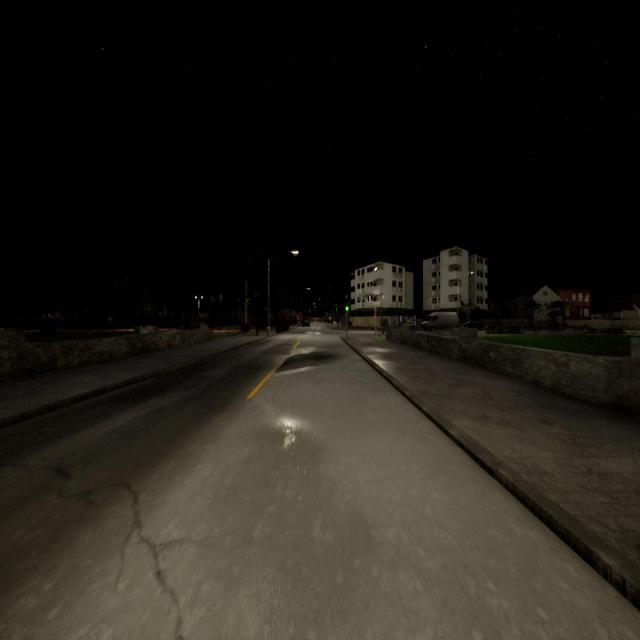Traffic_Signs: (328, 316, 332, 320)
Vehicle: (420, 312, 458, 331), (464, 319, 484, 330), (302, 319, 310, 328)
traffic_light: (346, 299, 348, 312)
